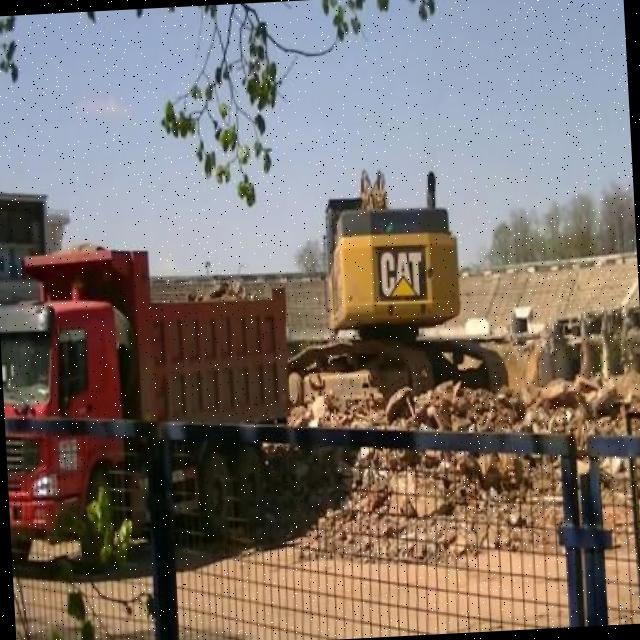Dump Truck: (0, 236, 299, 580)
Excavator: (277, 156, 513, 434)
